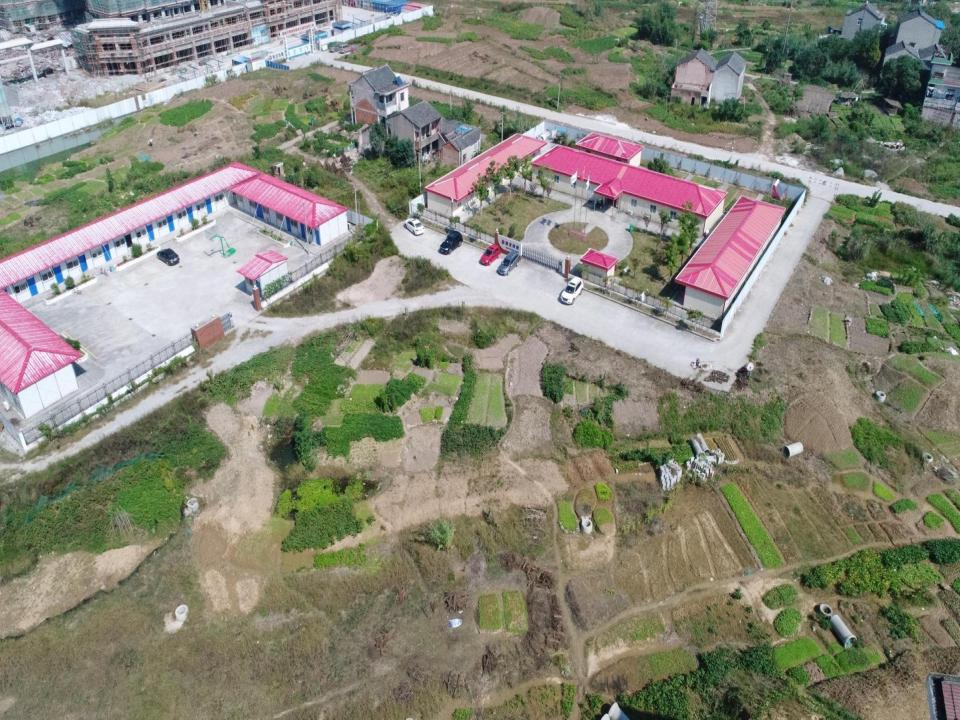car: (560, 276, 583, 304), (439, 231, 463, 255), (480, 244, 501, 265), (156, 248, 180, 266), (404, 218, 425, 235)
van: (497, 250, 520, 276)
